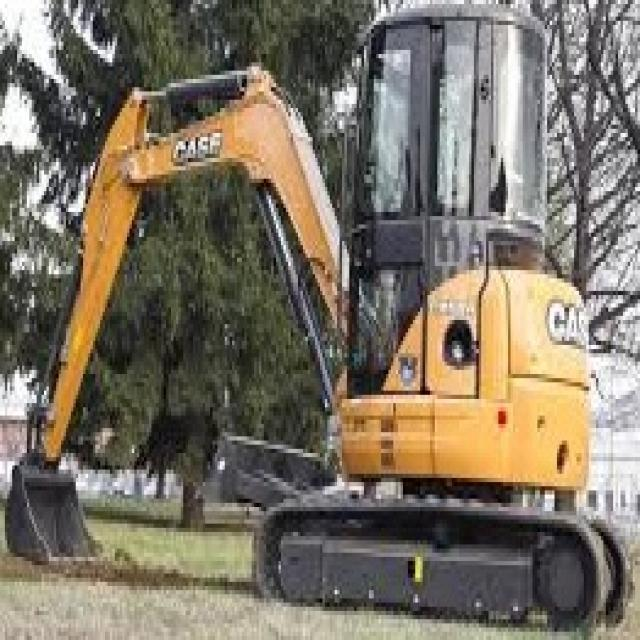excavator: (9, 0, 625, 640)
